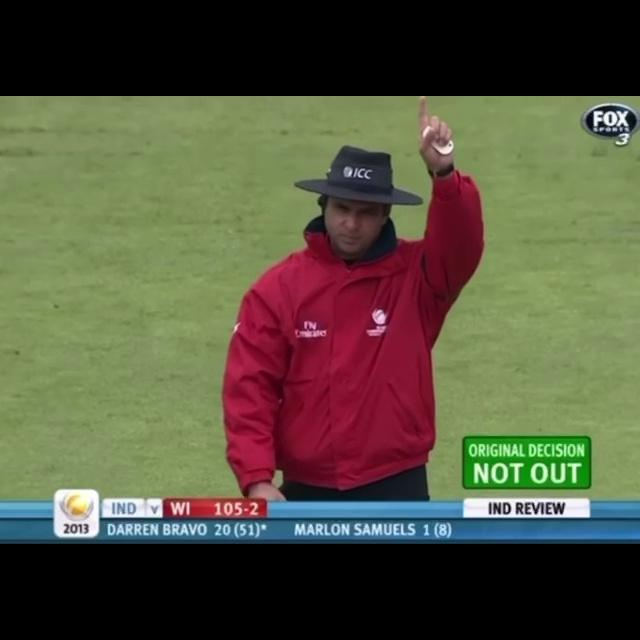umpire: (184, 96, 575, 428)
